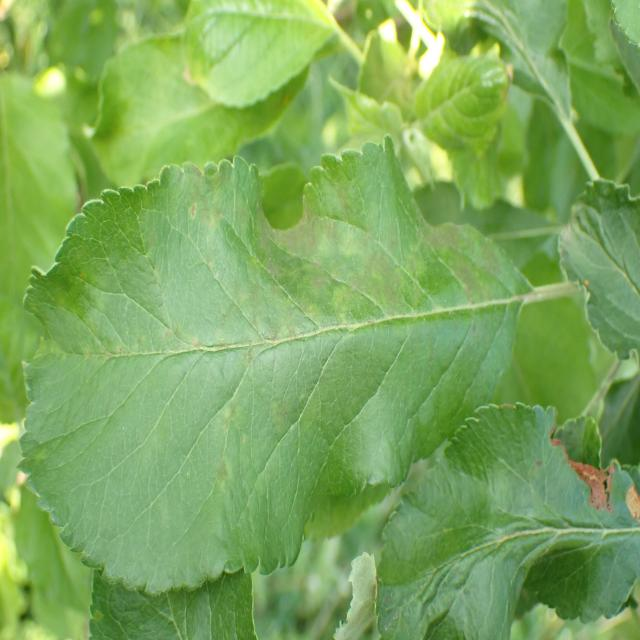scab: (52, 161, 523, 528)
